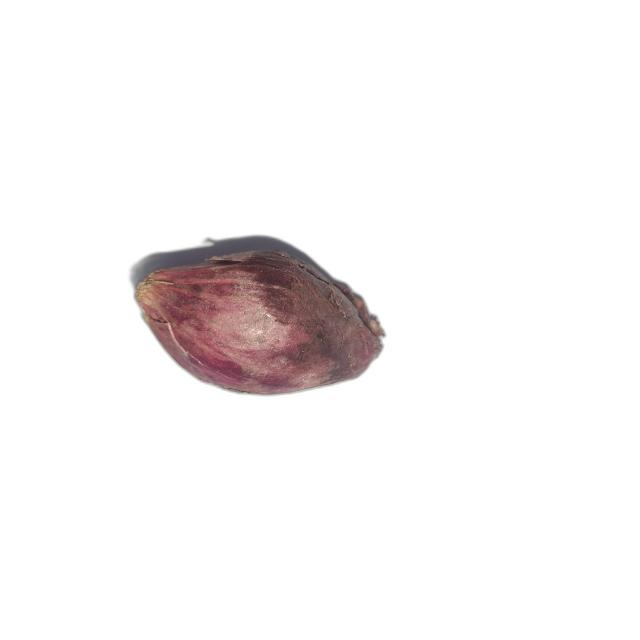onion: (135, 250, 388, 396)
